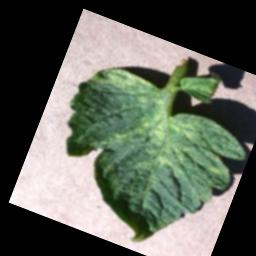Leaf_Mold: (67, 59, 211, 178), (207, 164, 223, 177)
